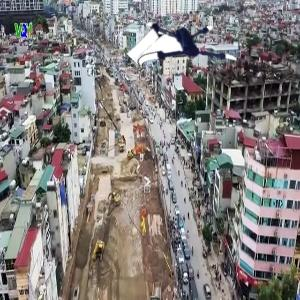drone: (142, 2, 237, 97)
